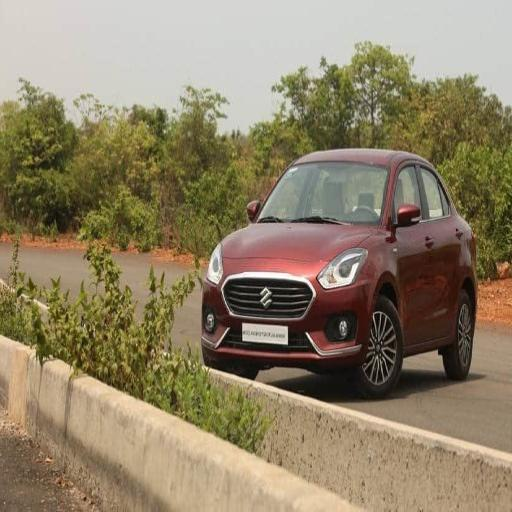License: (239, 318, 291, 346)
